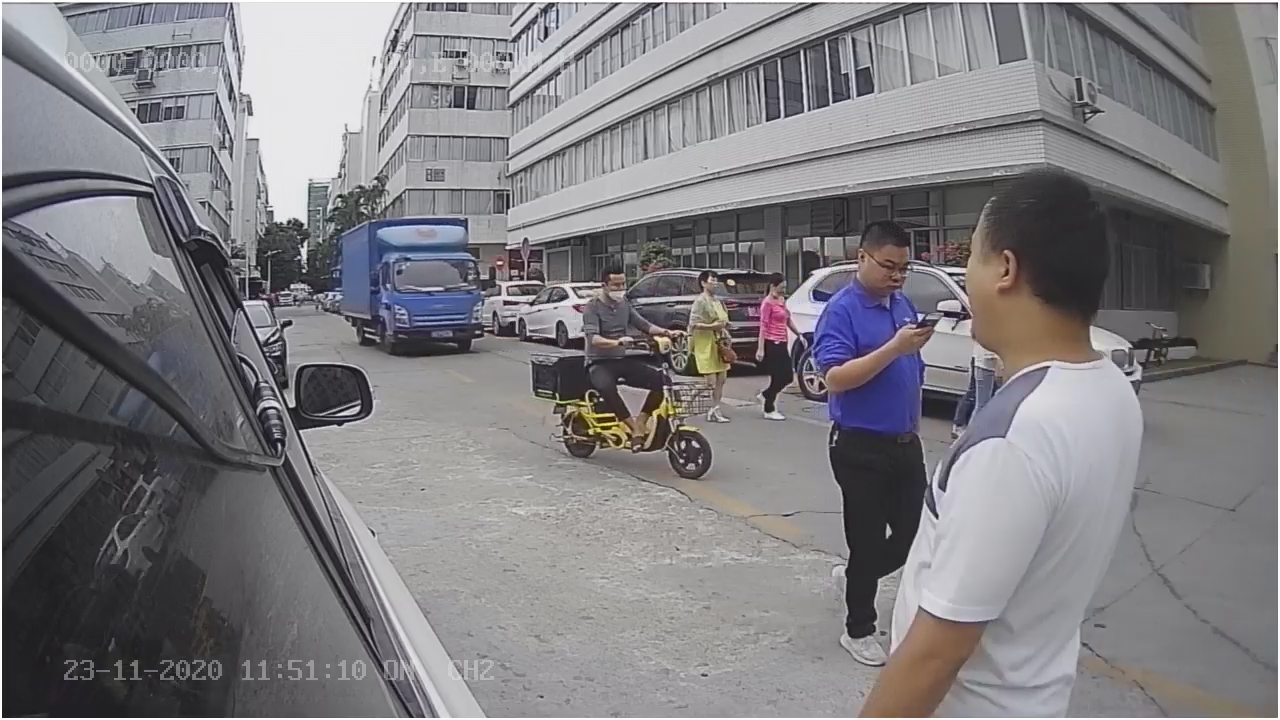person: (801, 214, 931, 664)
